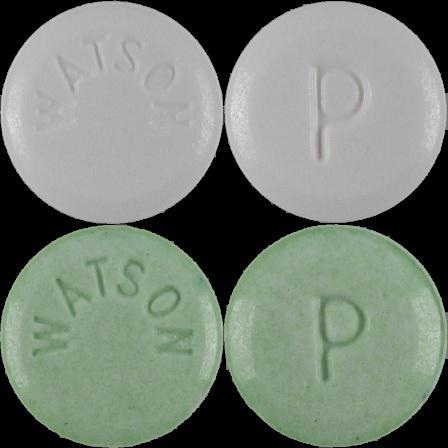52544-953: (0, 0, 224, 224)
